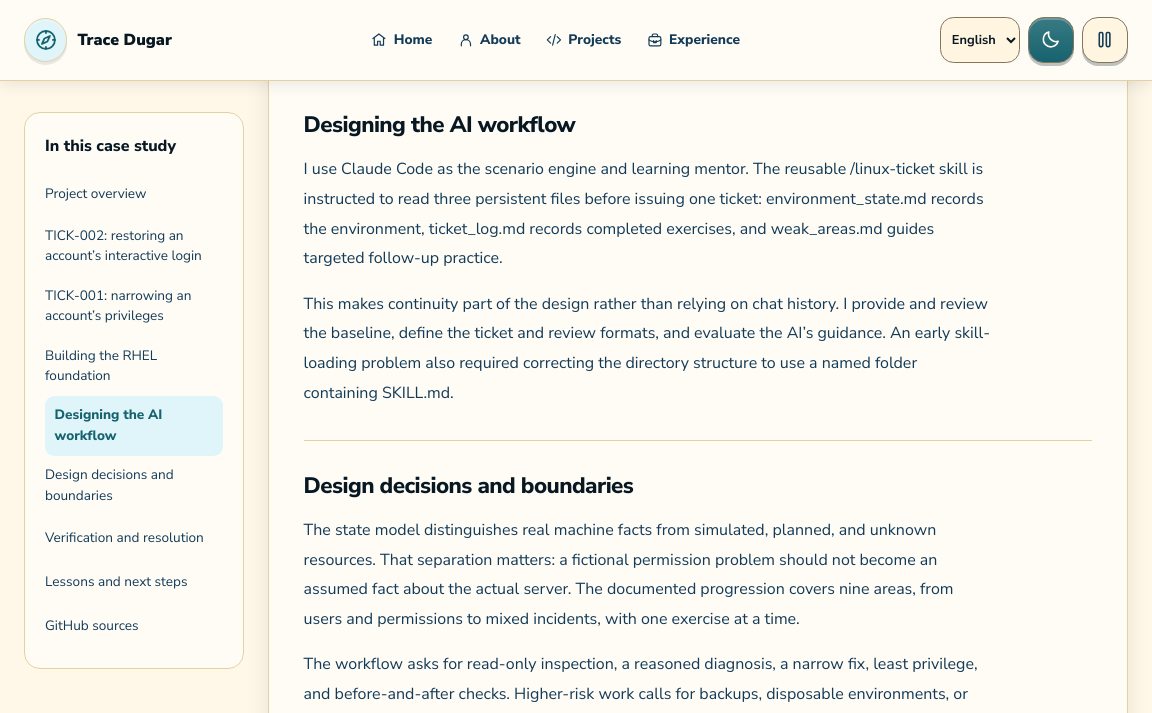
the Linux case study supports direct sections and Japanese GitHub source links
(page scrolled)
Click the link "GitHub sources". click: [92, 625]
box: left=45, top=616, right=139, bottom=635
(page scrolled)
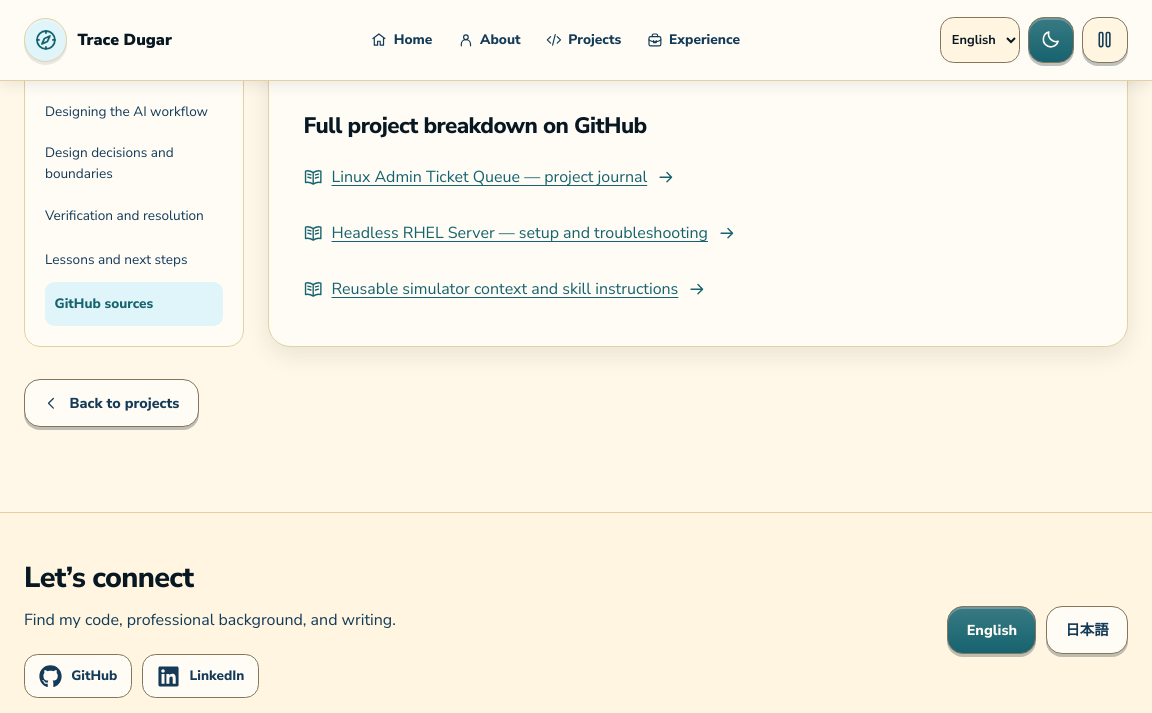
Expected: the link "GitHub sources" has attribute aria-current="location", left=45, top=282, right=223, bottom=326
Expected: the link "Designing the AI workflow" does not have attribute aria-current, left=45, top=102, right=208, bottom=121
Select "日本語" in the dropdown named "Language". click: [980, 40]
box: left=940, top=17, right=1020, bottom=63
(page scrolled)
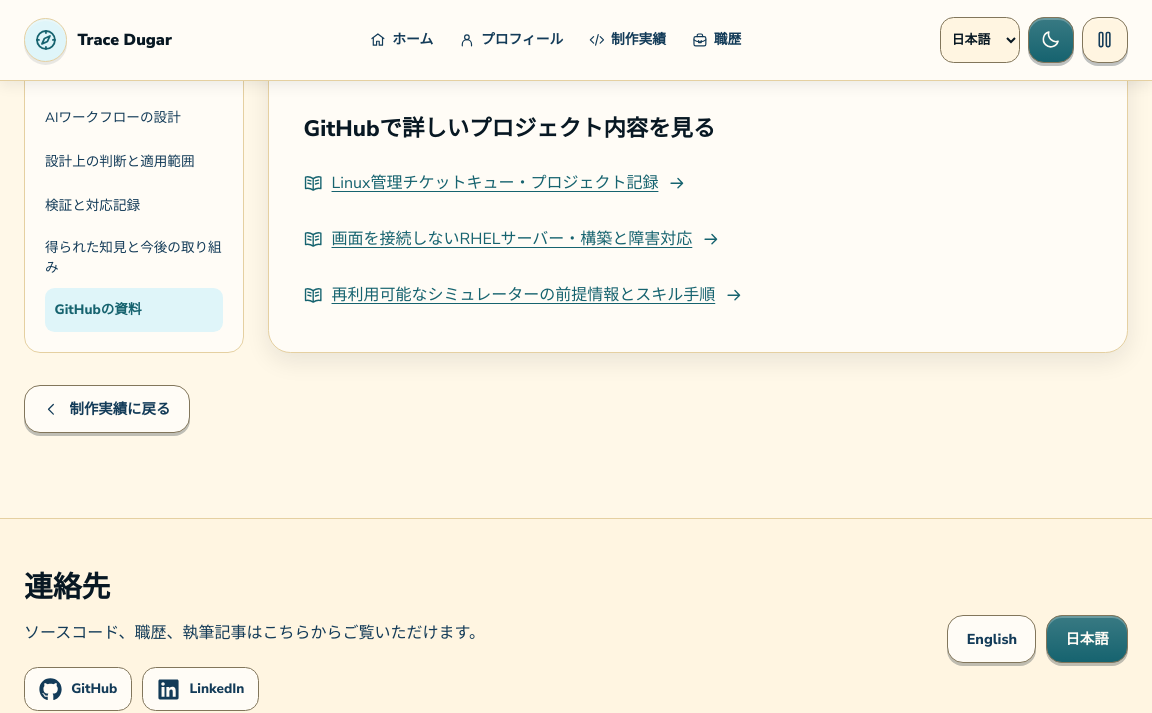
Expected: the link "Designing the AI workflow" is gone
